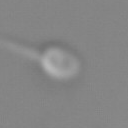normal: (1, 34, 42, 61)
